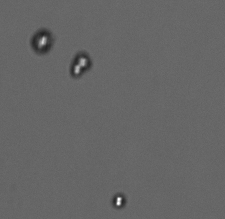Living Cell: (30, 28, 55, 52), (68, 51, 90, 78), (111, 193, 128, 208)
